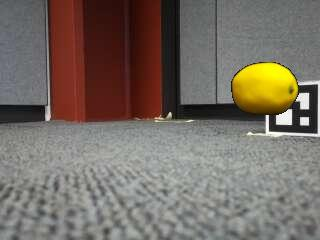lemon: (234, 62, 299, 114)
